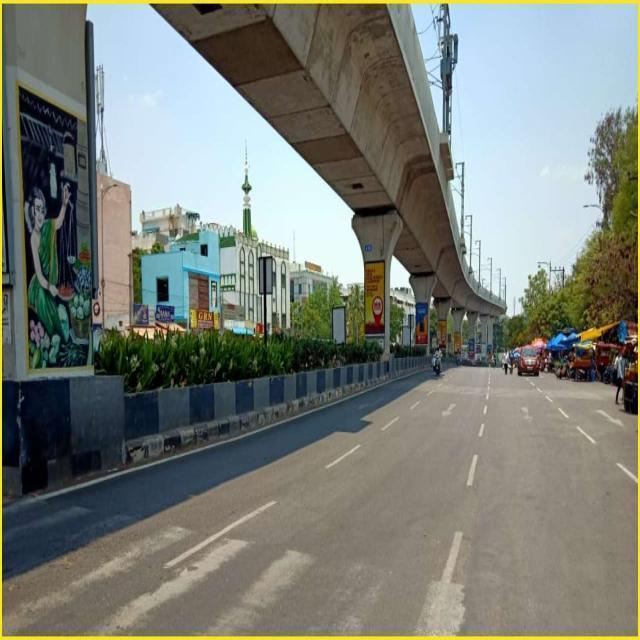Clean road: (0, 331, 640, 640)
